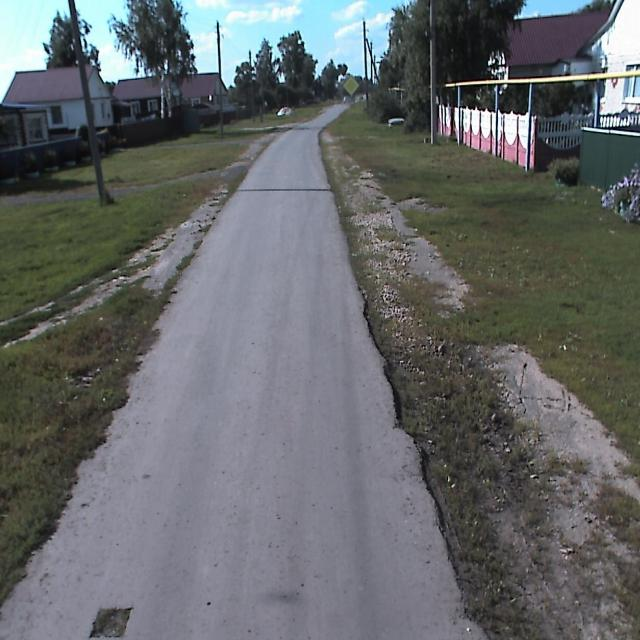road: (0, 103, 485, 639)
